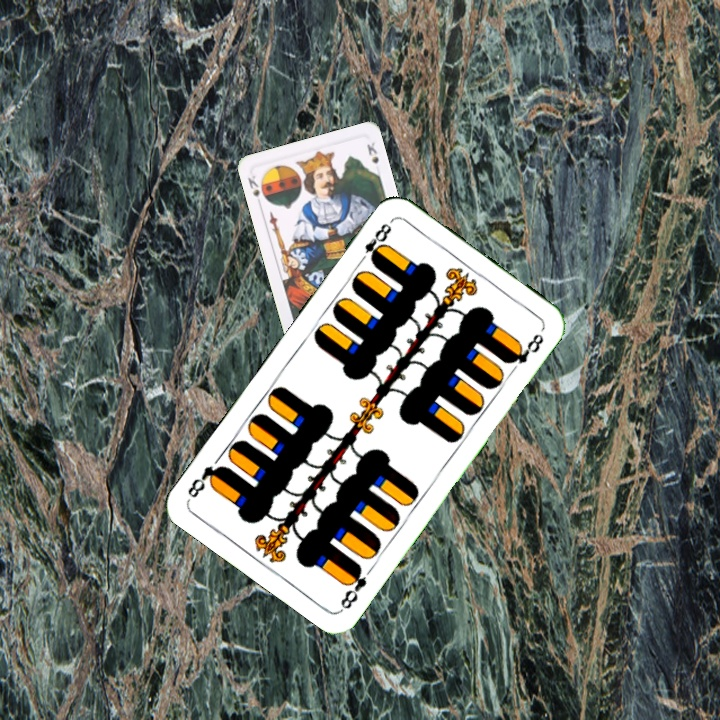E8: (354, 219, 394, 267), (336, 560, 370, 613)
SK: (243, 172, 270, 209)
